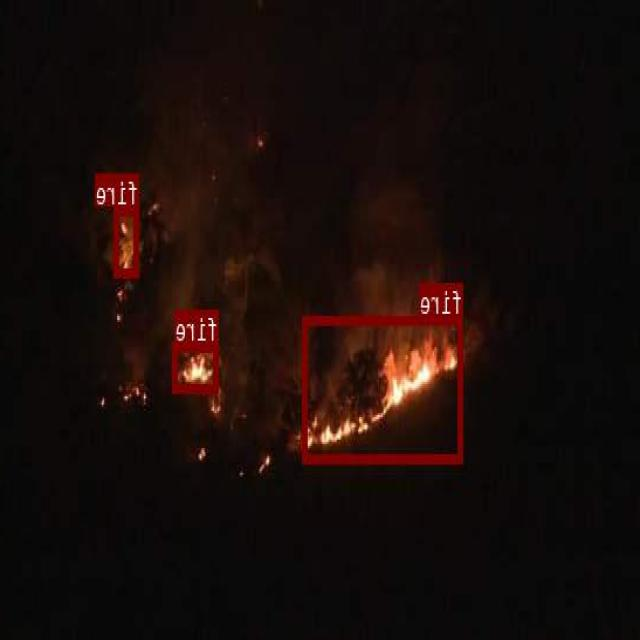fire: (304, 314, 464, 460), (174, 342, 219, 391), (115, 206, 140, 274)
